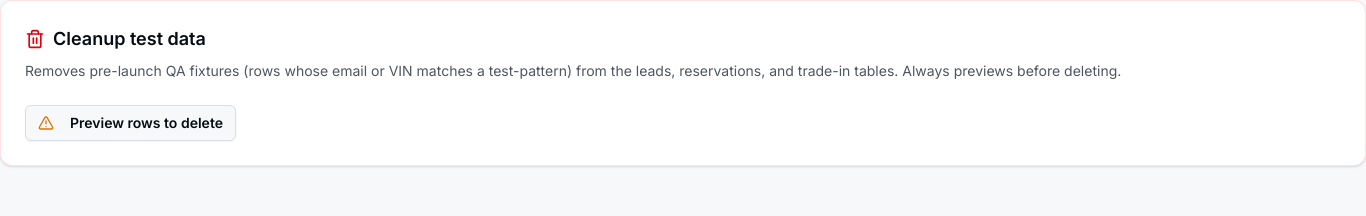
Test: CleanupTestDataCard › renders a generic message when error body is unparseable
The width and height of the screenshot is (1366, 216).
Click the button "Preview rows to delete": (130, 123) [25, 105, 236, 141]
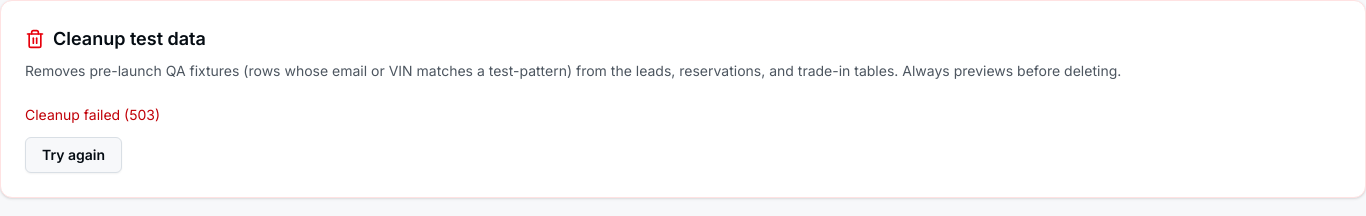
expect the text "Cleanup failed (503)" is shown: met, box [25, 106, 160, 123]
